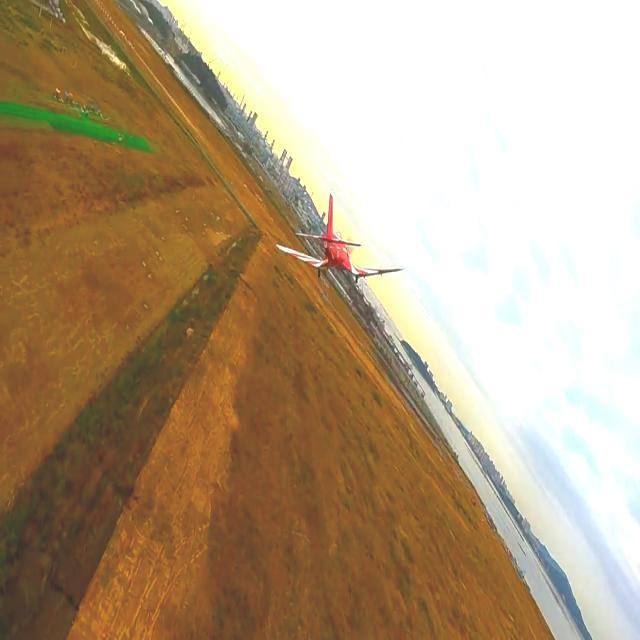iha: (277, 222, 406, 255)
